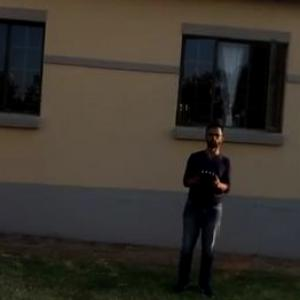follow: (170, 112, 236, 299)
